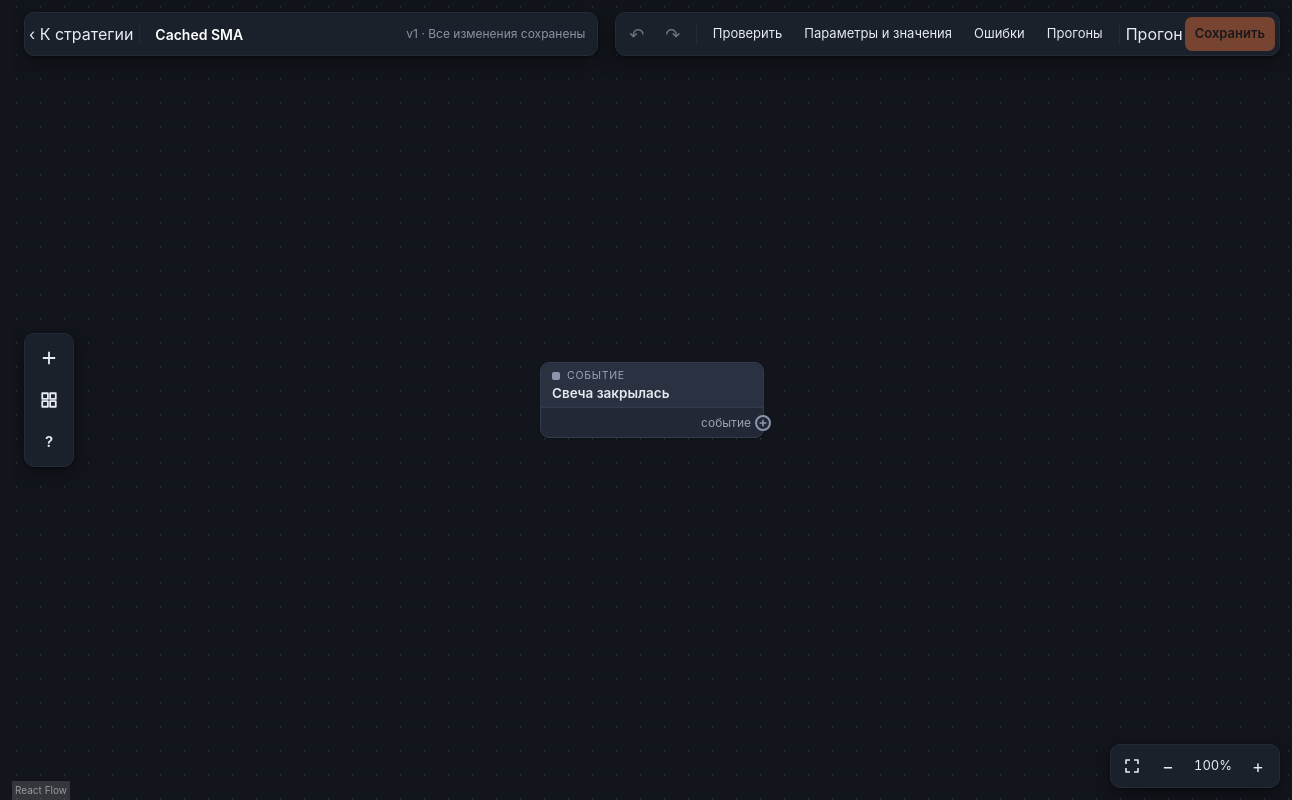
cached editor › keeps the draft when someone saved a newer version
Step 1. Replace the text in the field named "Название стратегии" with "Changed" → (274, 34), box [146,18,402,50]
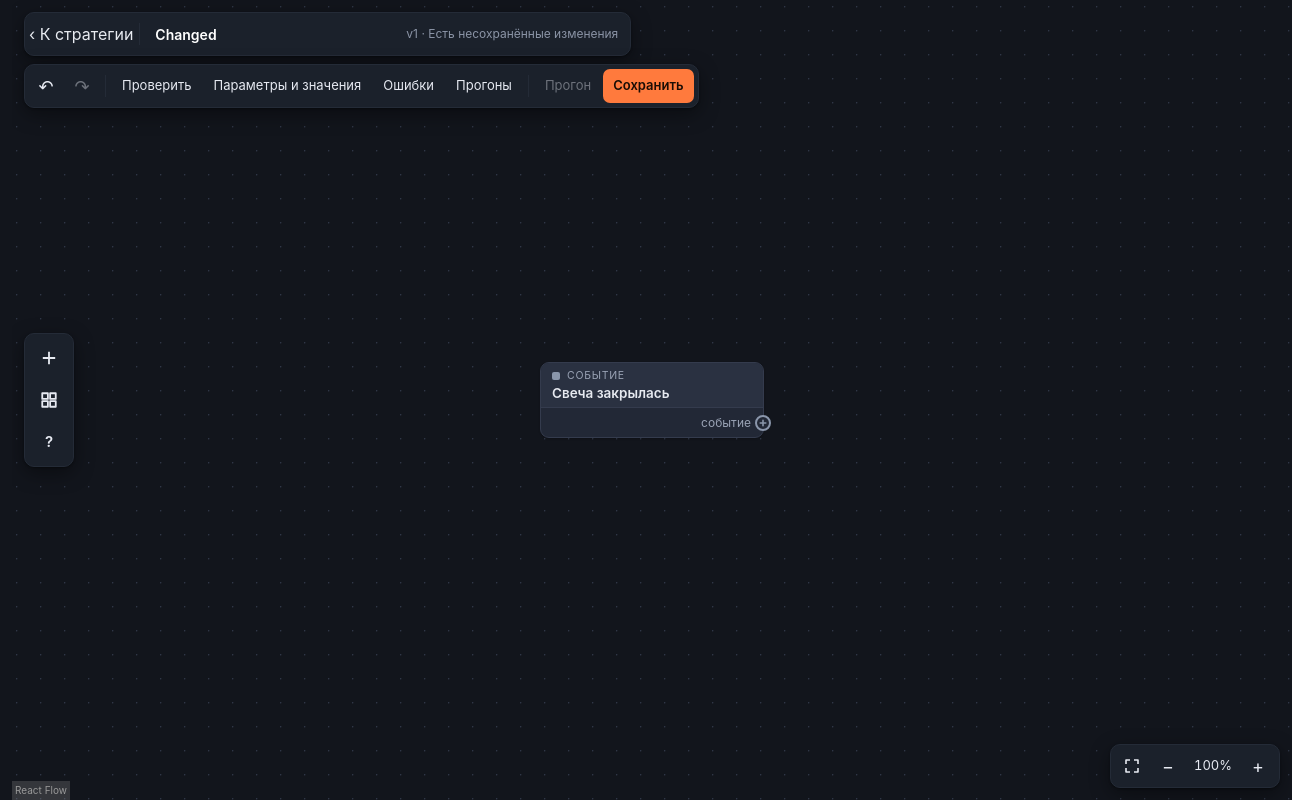
Step 2. Click the button "Сохранить" → (648, 86), box [603,69,694,103]
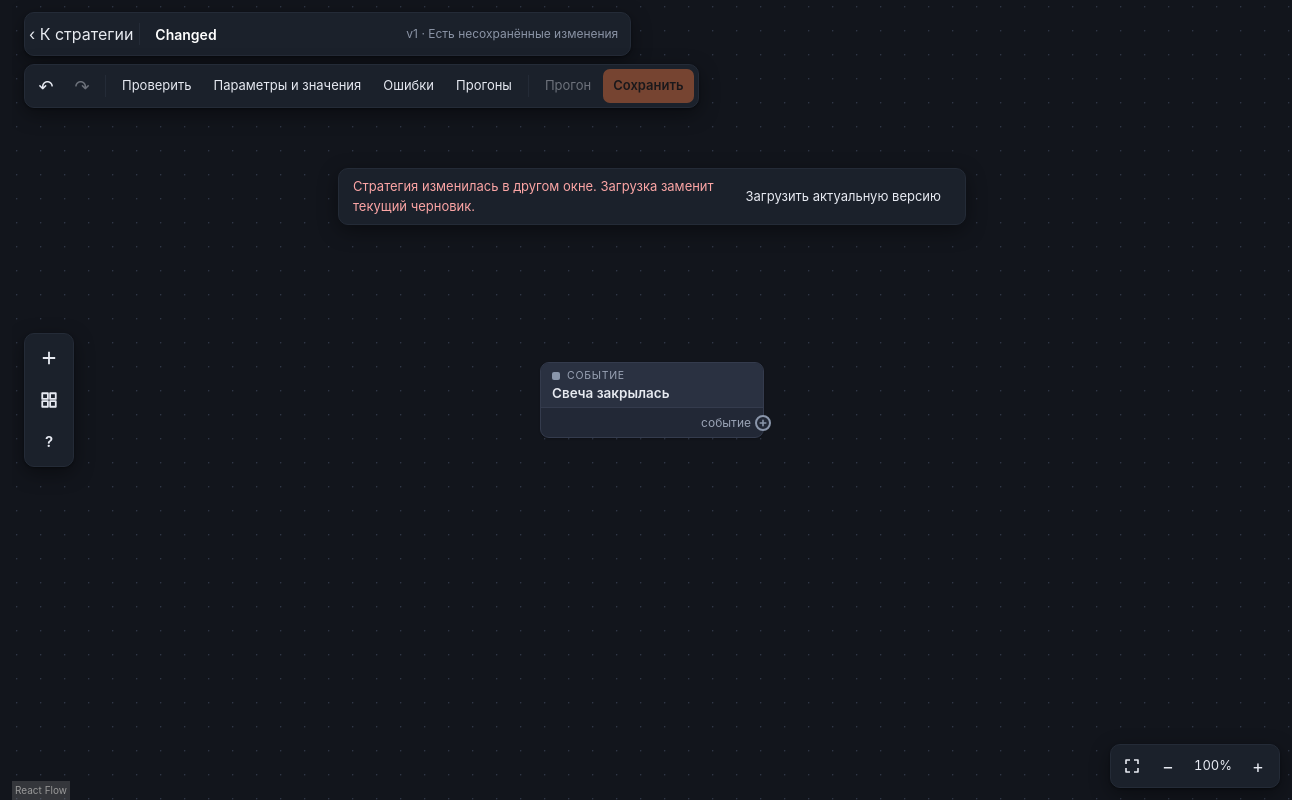
Expected: the 2nd message shows "Стратегия изменилась в другом окне", [353,178,714,214]
